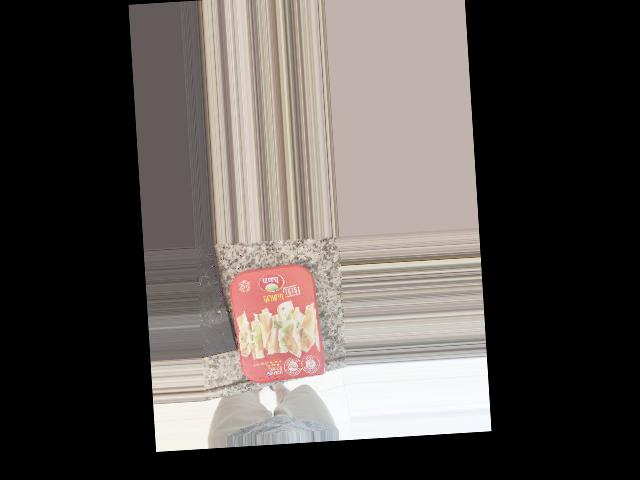cheese: (228, 287, 316, 404)
